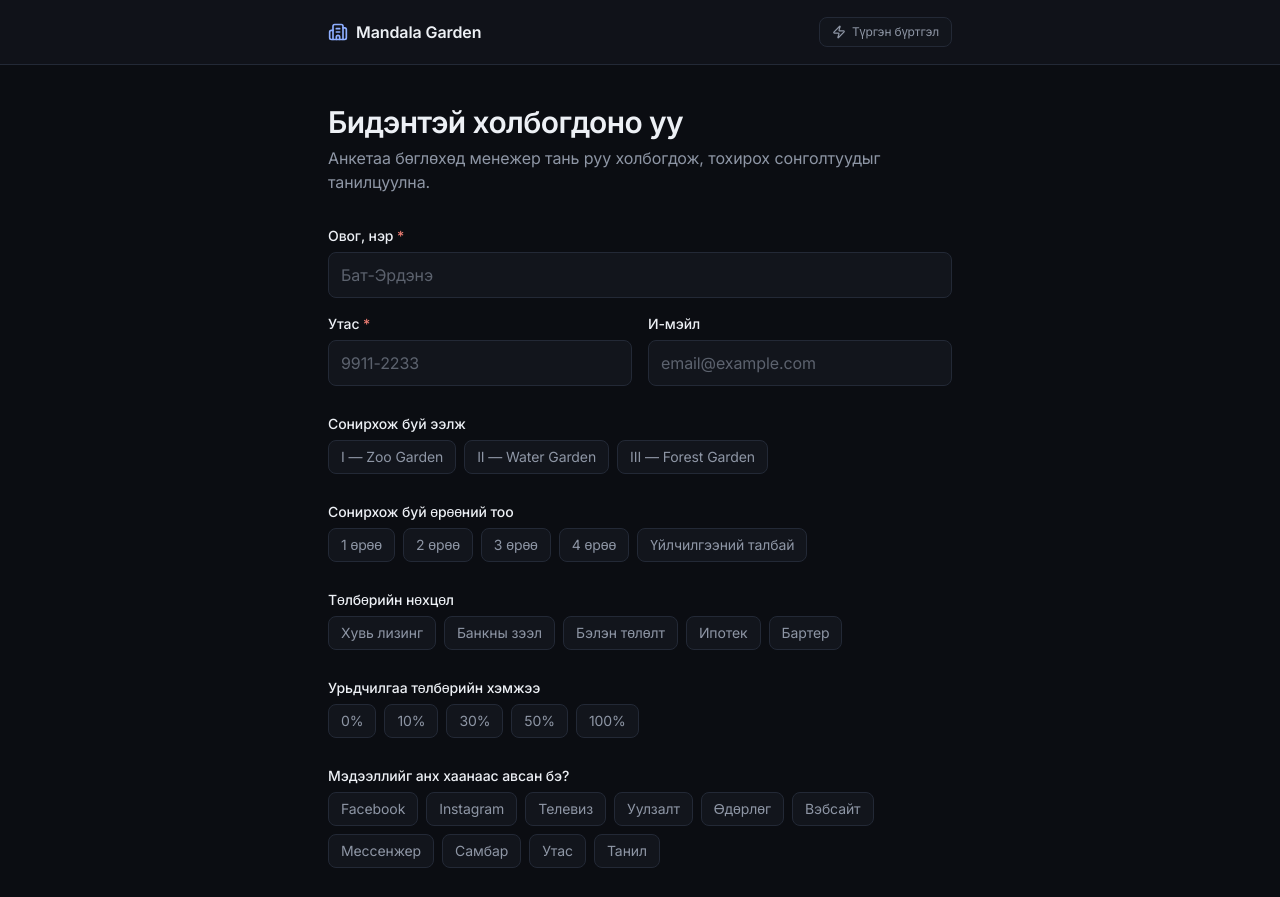
staff quick entry › shows the toggle to staff with lead write access and keeps the quick payload
Click the button "Түргэн бүртгэл": [885, 32] box 819,17 -> 952,47
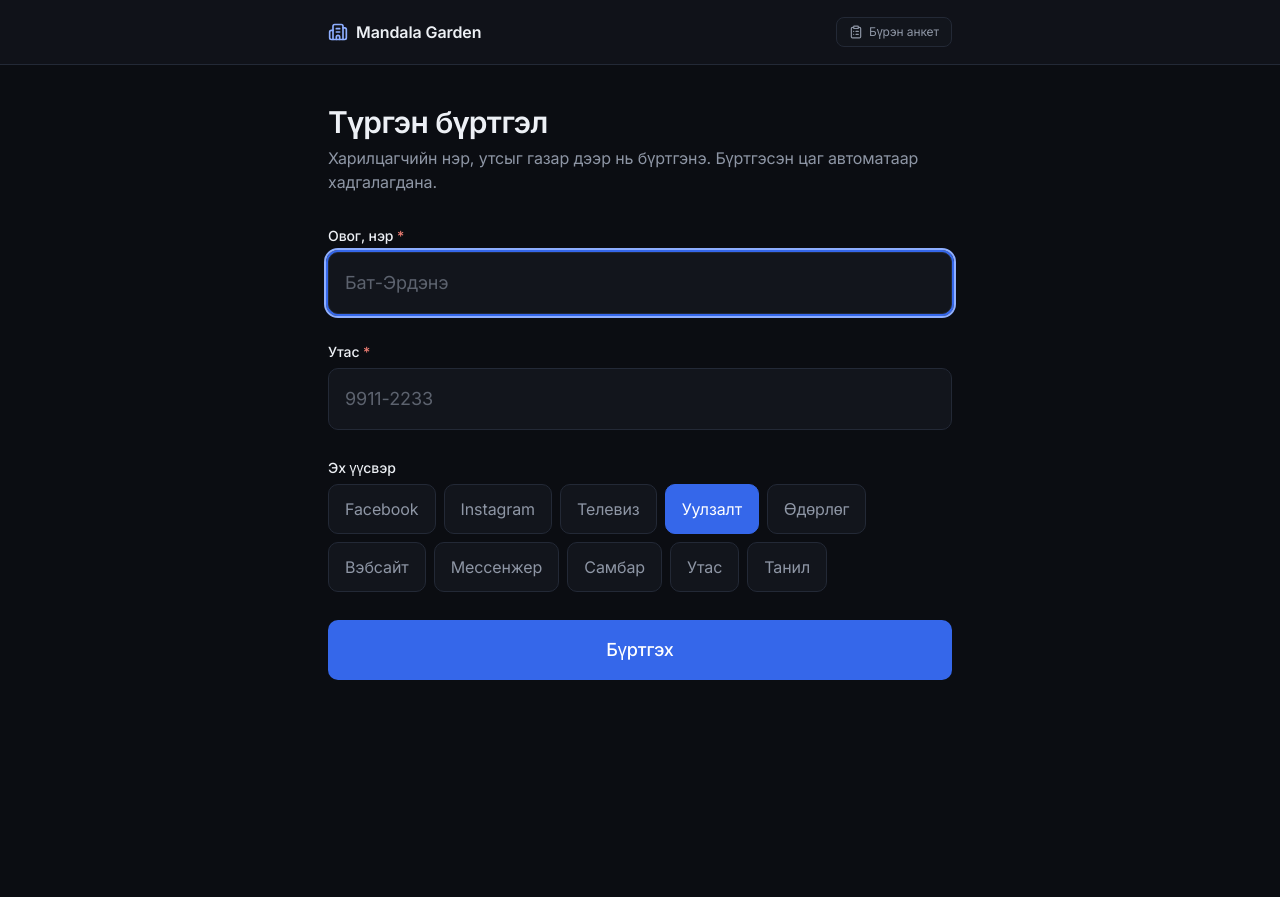
Now the heading "Түргэн бүртгэл" is shown, box 328,104 -> 548,140
In the field labelled "Овог, нэр *": [640, 282] box 328,252 -> 952,314, type "Сараа"
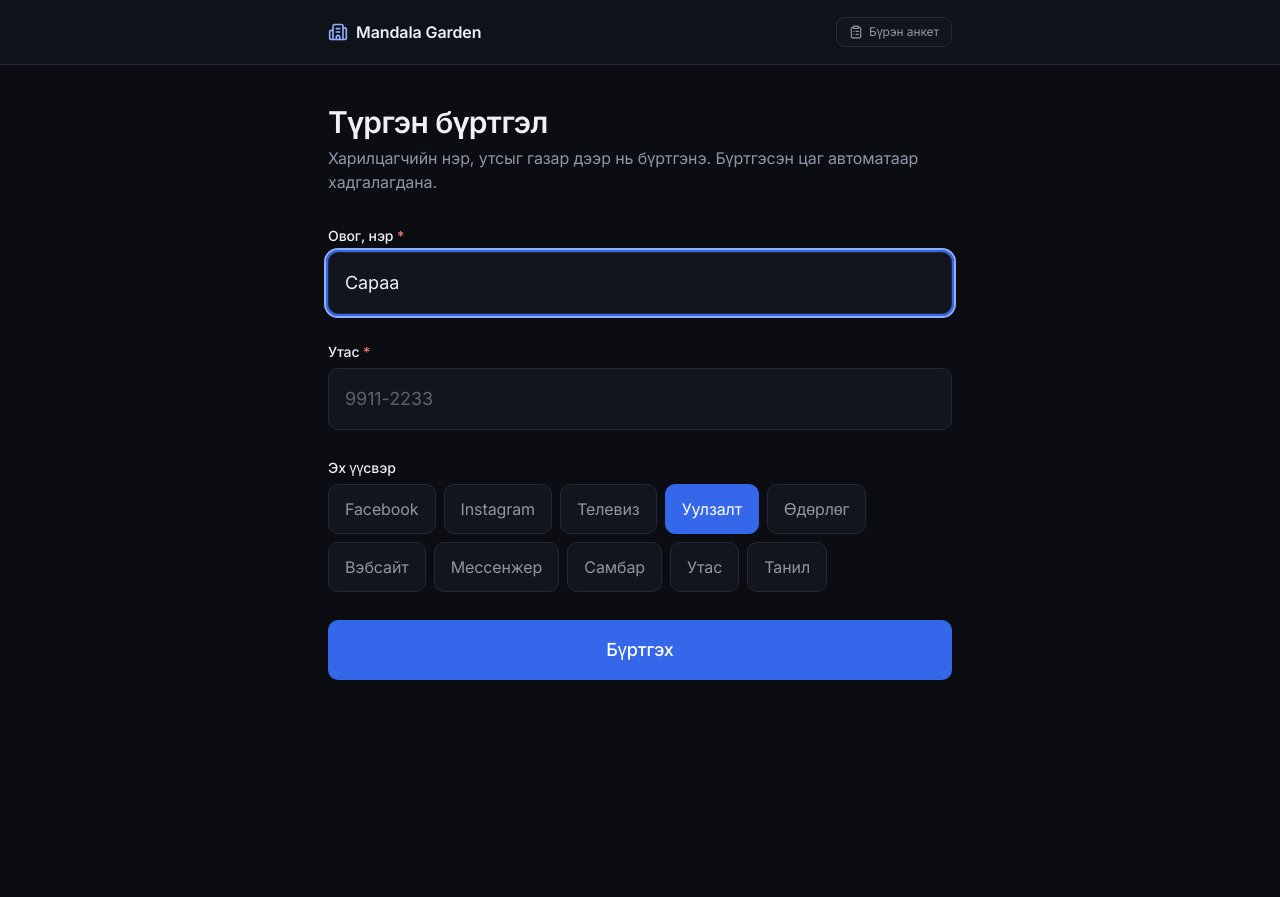
In the field labelled "Утас *": [640, 398] box 328,368 -> 952,430, type "88112233"
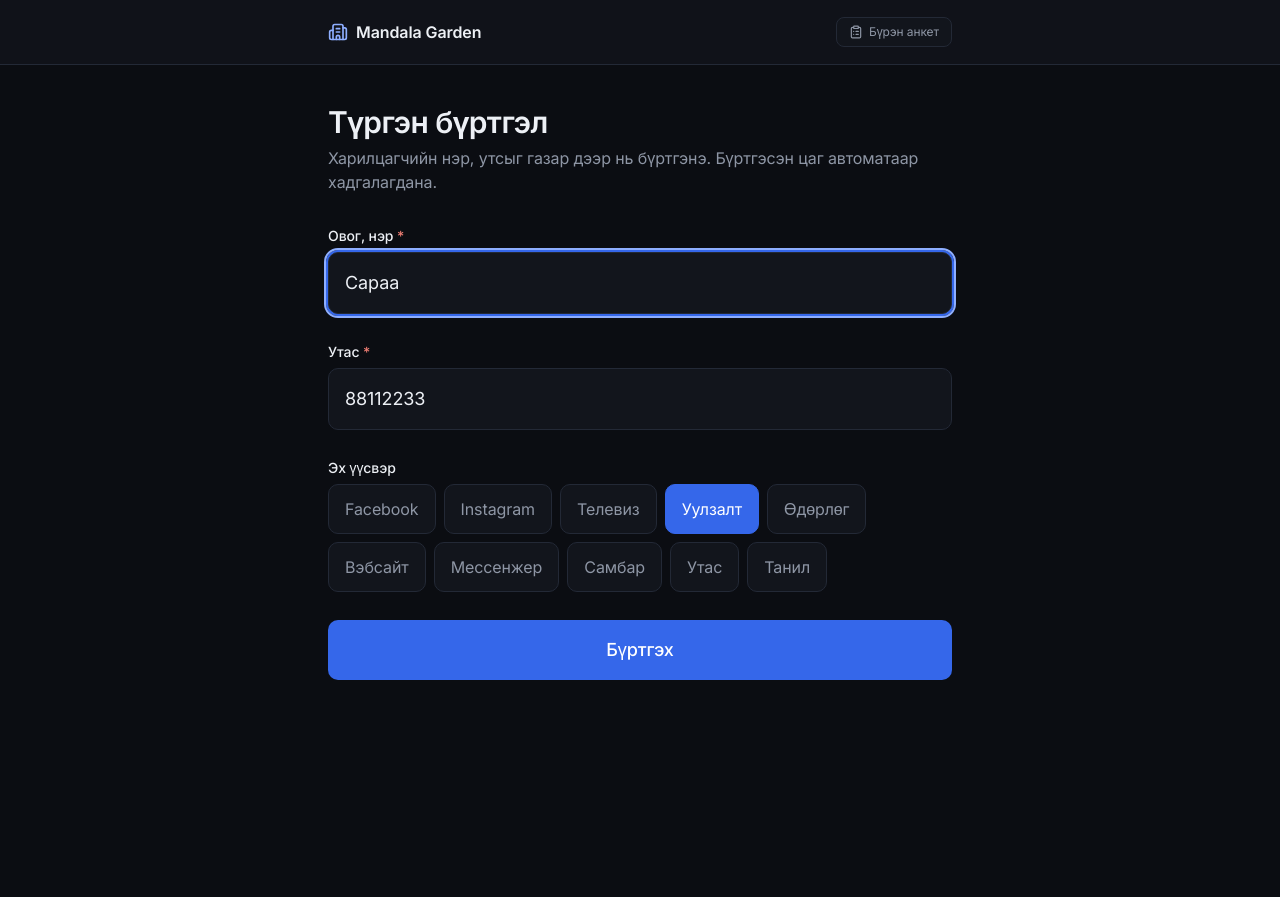
Click the button "Бүртгэх": [640, 650] box 328,620 -> 952,680
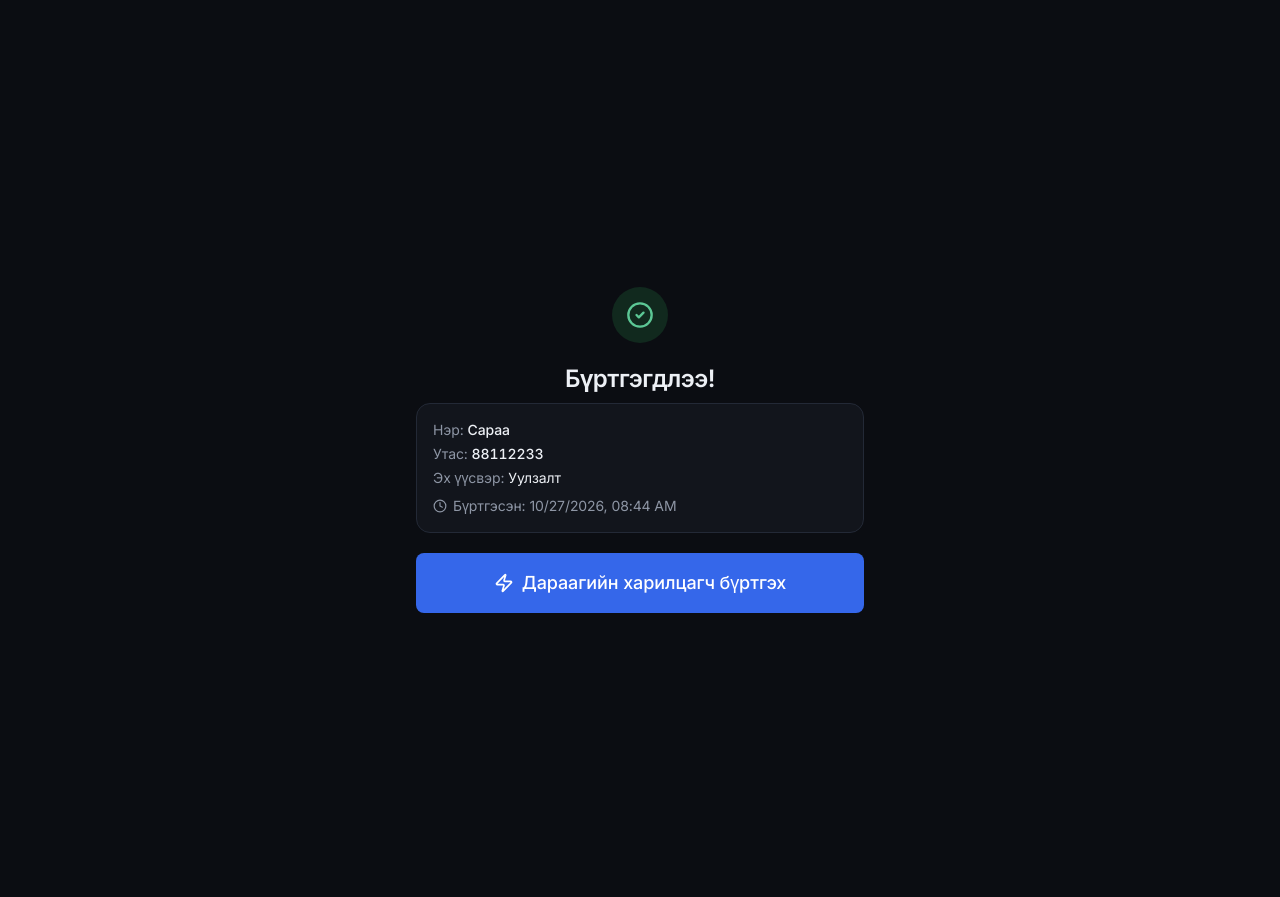
Now the heading "Бүртгэгдлээ!" is shown, box 565,364 -> 715,393
